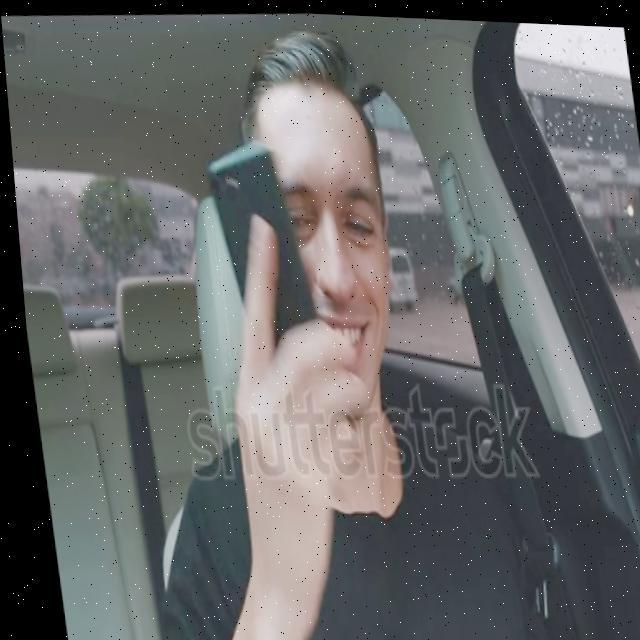PhoneCall: (202, 136, 316, 358)
